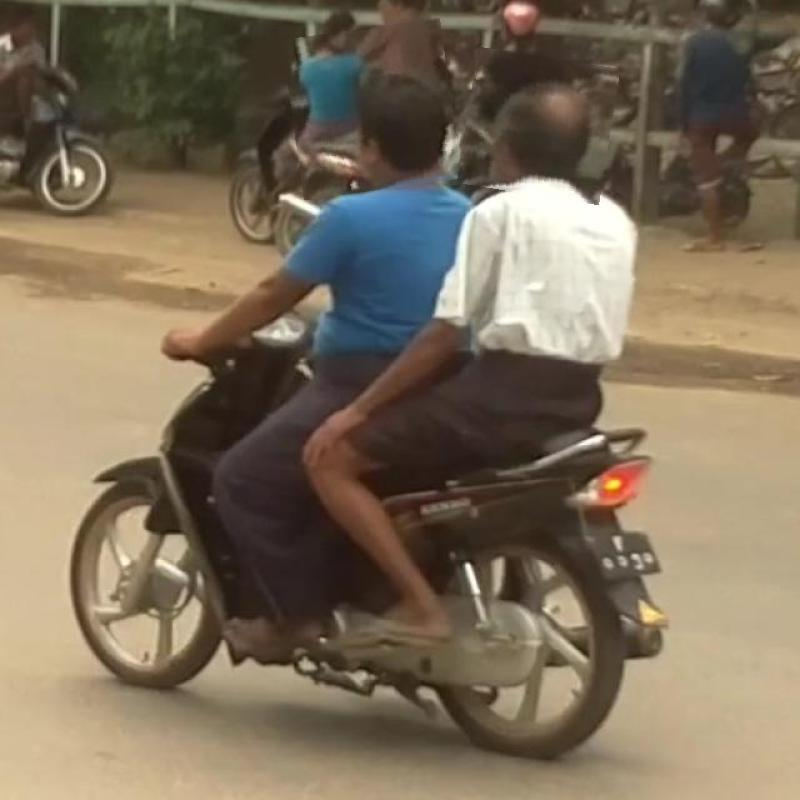nohelmet: (286, 23, 458, 195), (462, 52, 616, 200)
